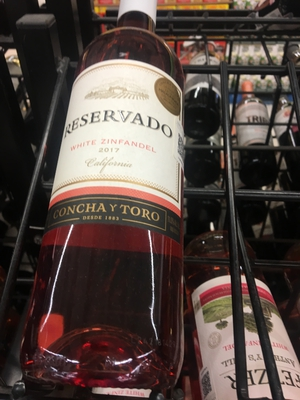reservado white zinfandel: (50, 12, 185, 400)
